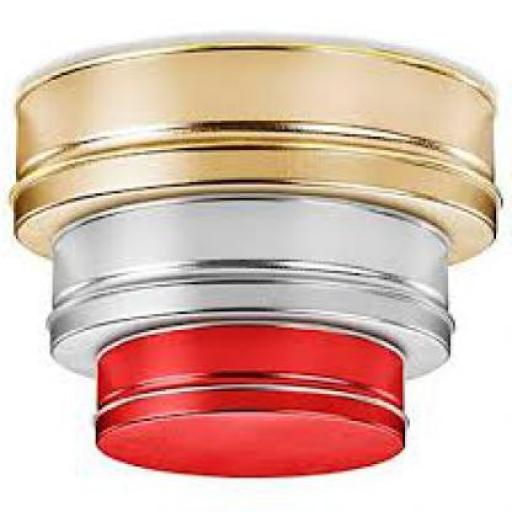metal: (9, 46, 503, 268), (52, 192, 455, 384), (97, 321, 410, 478)
